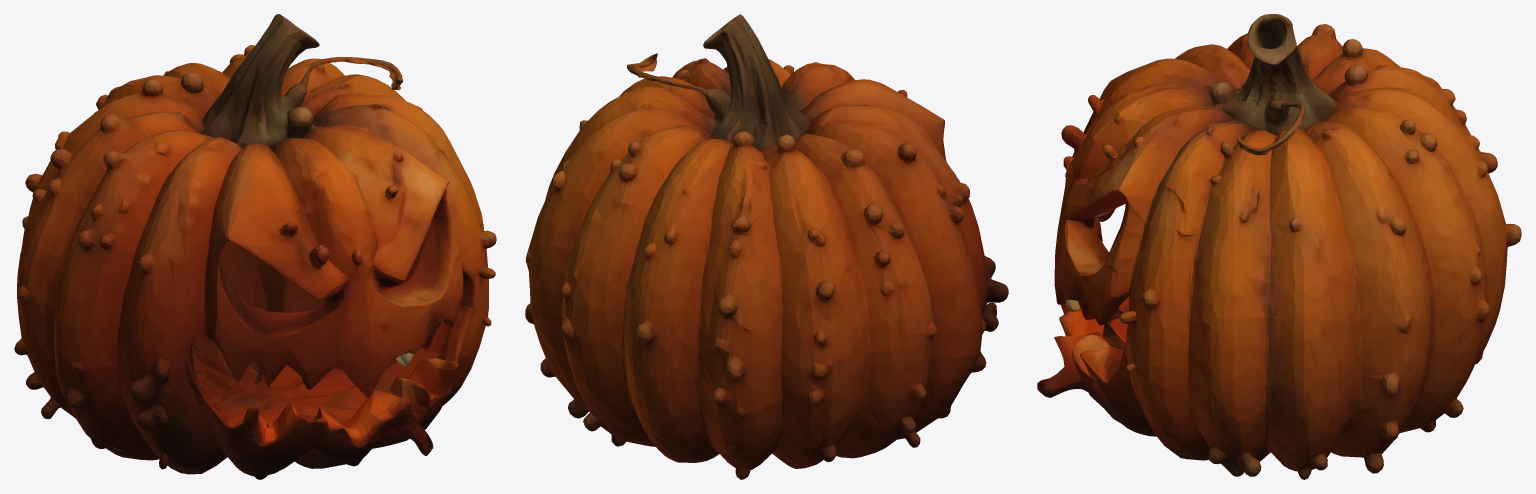
The model's file is pumpkin_jackolantern_warty_angry.glb.
The picture shows the model from 3 angles, left to right: view 1: azimuth 30°, elevation 25°; view 2: azimuth 150°, elevation 25°; view 3: azimuth 270°, elevation 25°; orthographic projection. The views are drawn at different scales.
Visible parts, largest first — view 1: geometry_0; view 2: geometry_0; view 3: geometry_0.
Part boxes in pixels (x1,y1,x2,y2): geometry_0: [14, 14, 496, 479]; geometry_0: [525, 14, 1008, 479]; geometry_0: [1037, 14, 1521, 479].
Size of the model in its own units: 0.9945 by 0.932 by 0.9948.
Materials: 1 (1 with a texture image).
